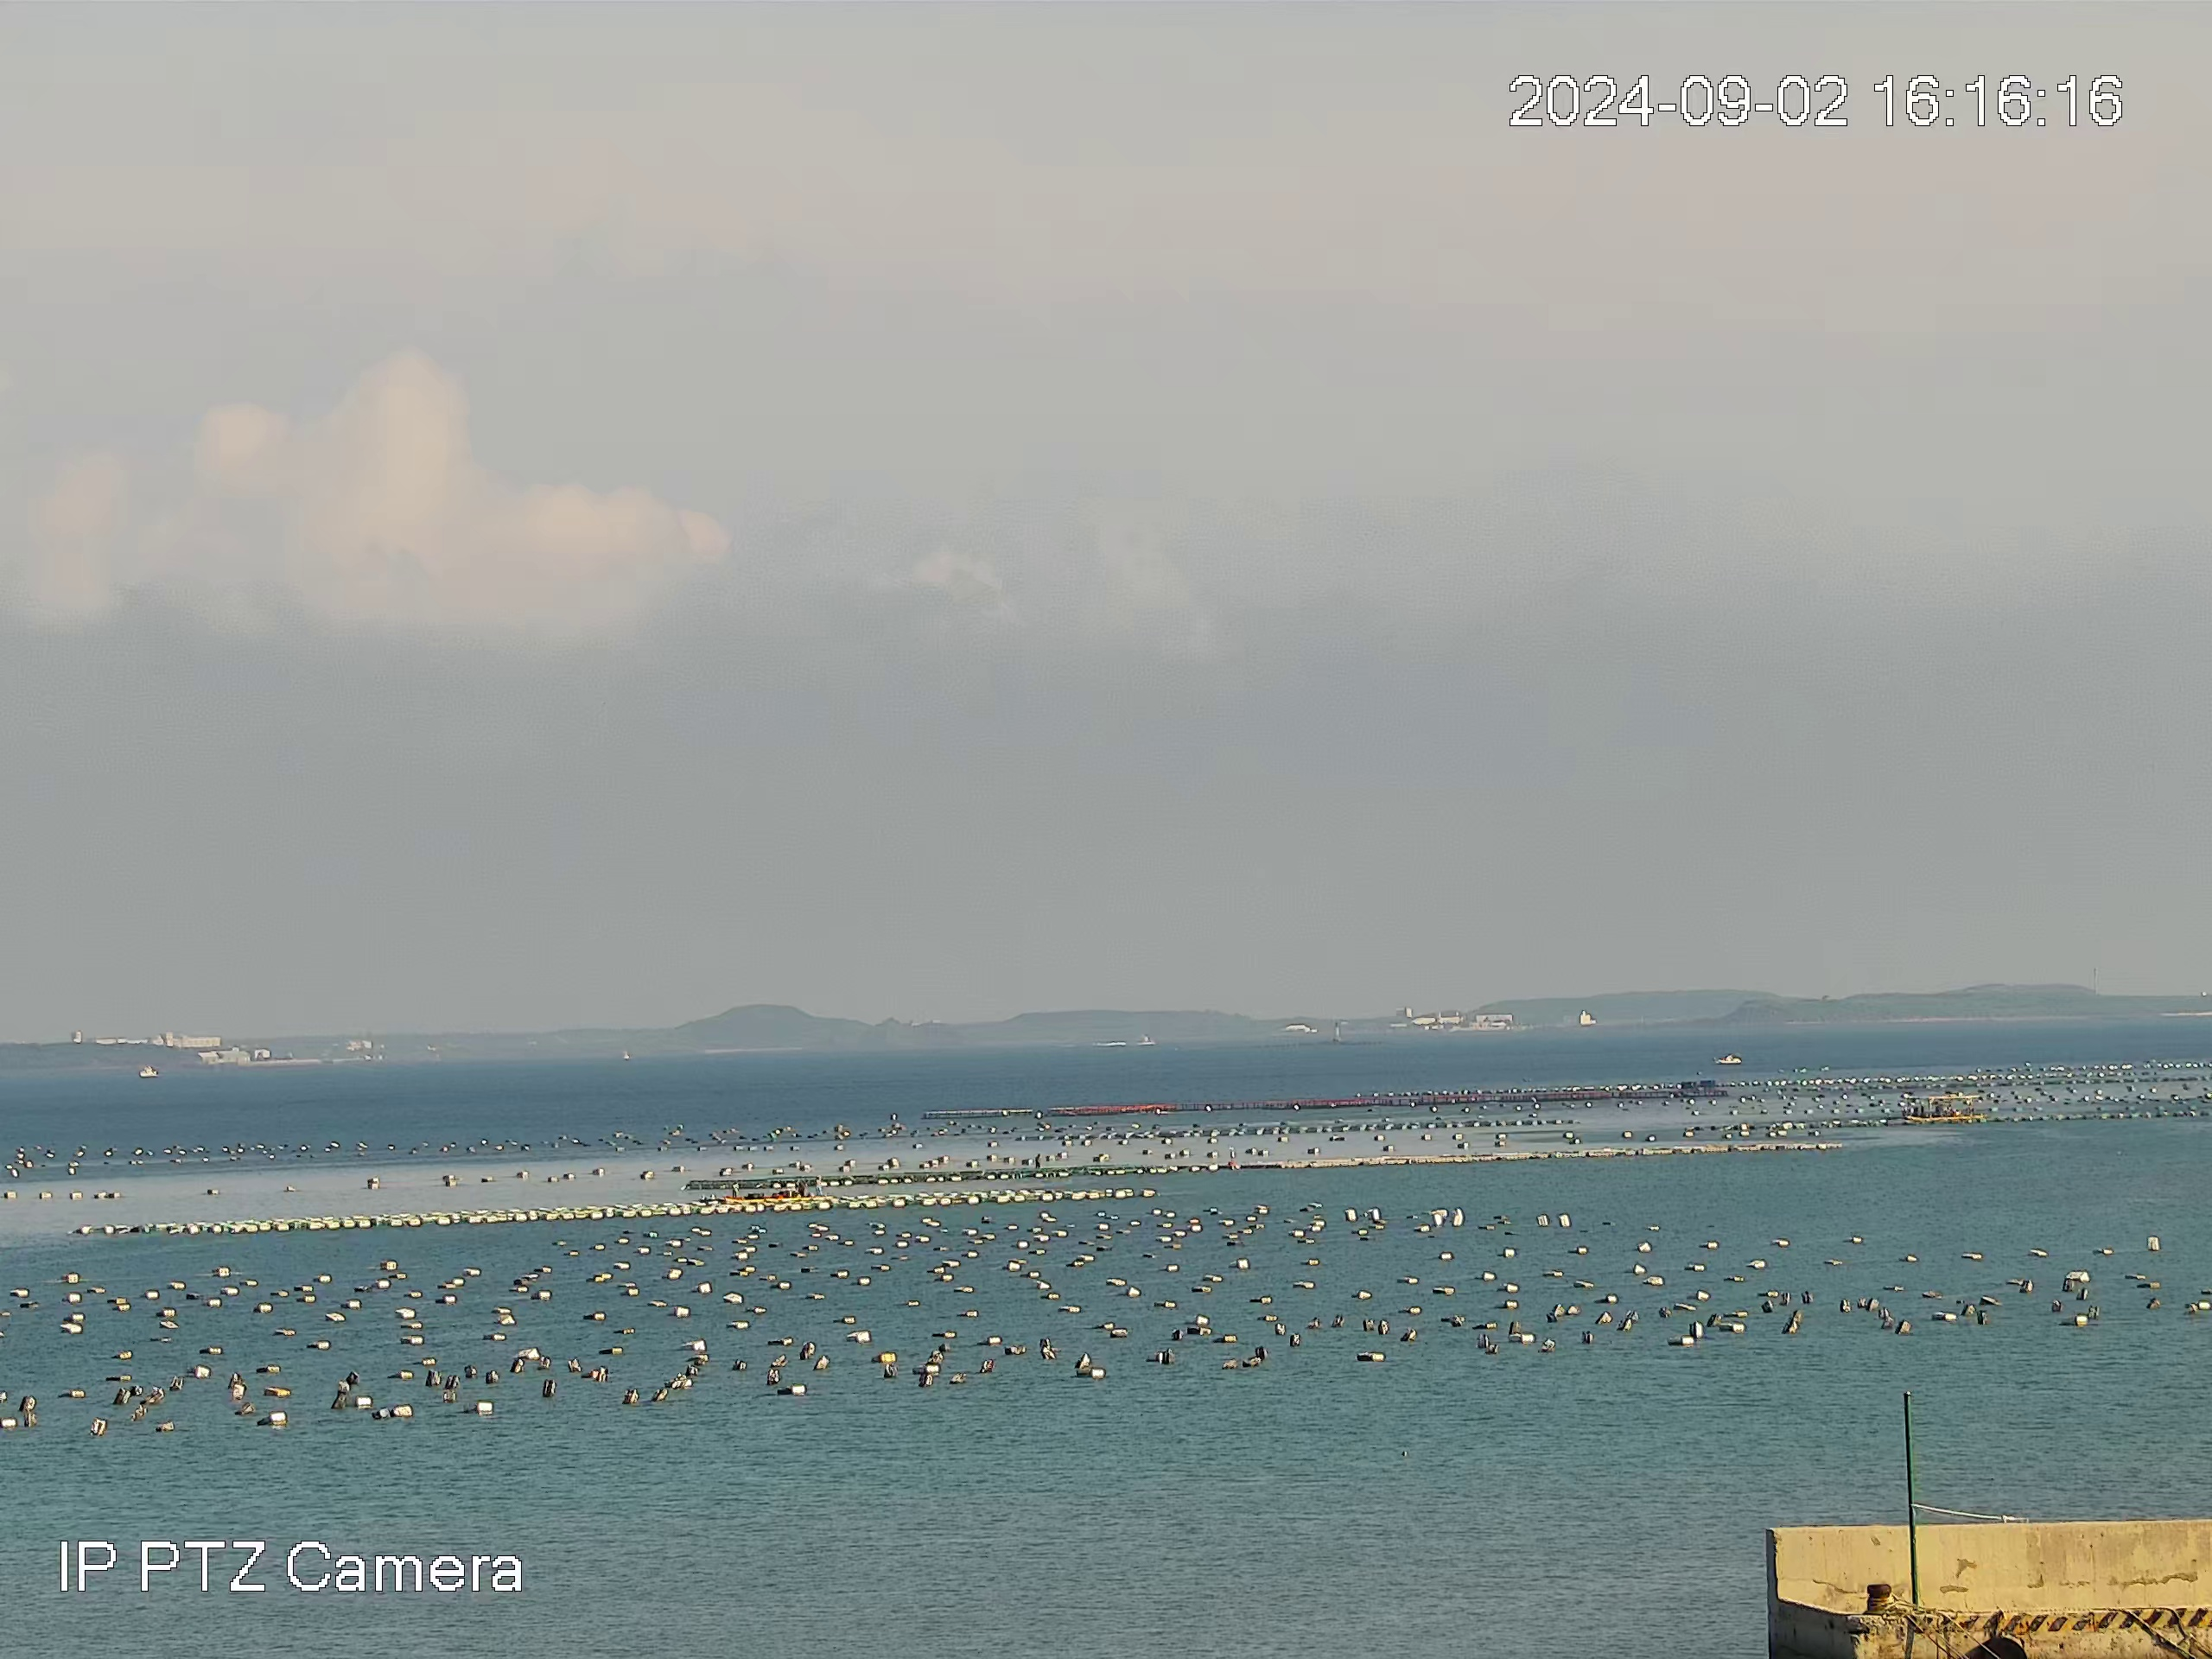boat: (721, 1176, 833, 1204), (1902, 1093, 1986, 1126), (1710, 1051, 1743, 1066)
